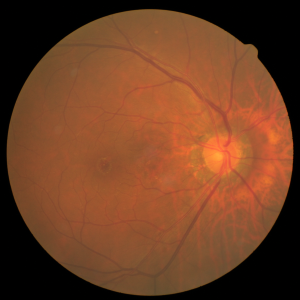healthy_eye: (85, 95, 274, 213)
